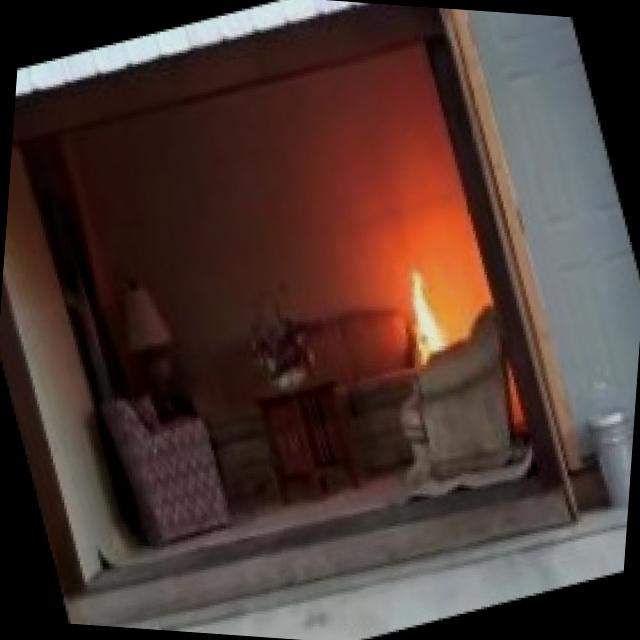fire: (374, 242, 481, 388)
